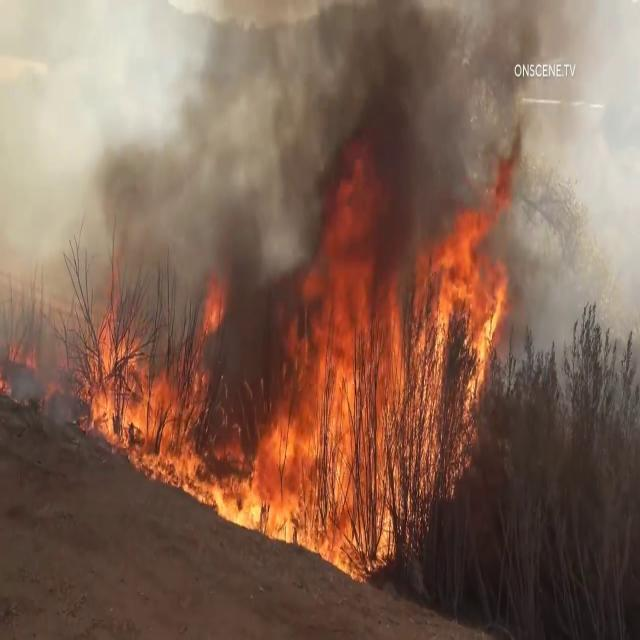Fire: (210, 201, 511, 558), (80, 272, 220, 492), (0, 352, 12, 402)
Smoke: (95, 1, 617, 314), (505, 1, 640, 437)
